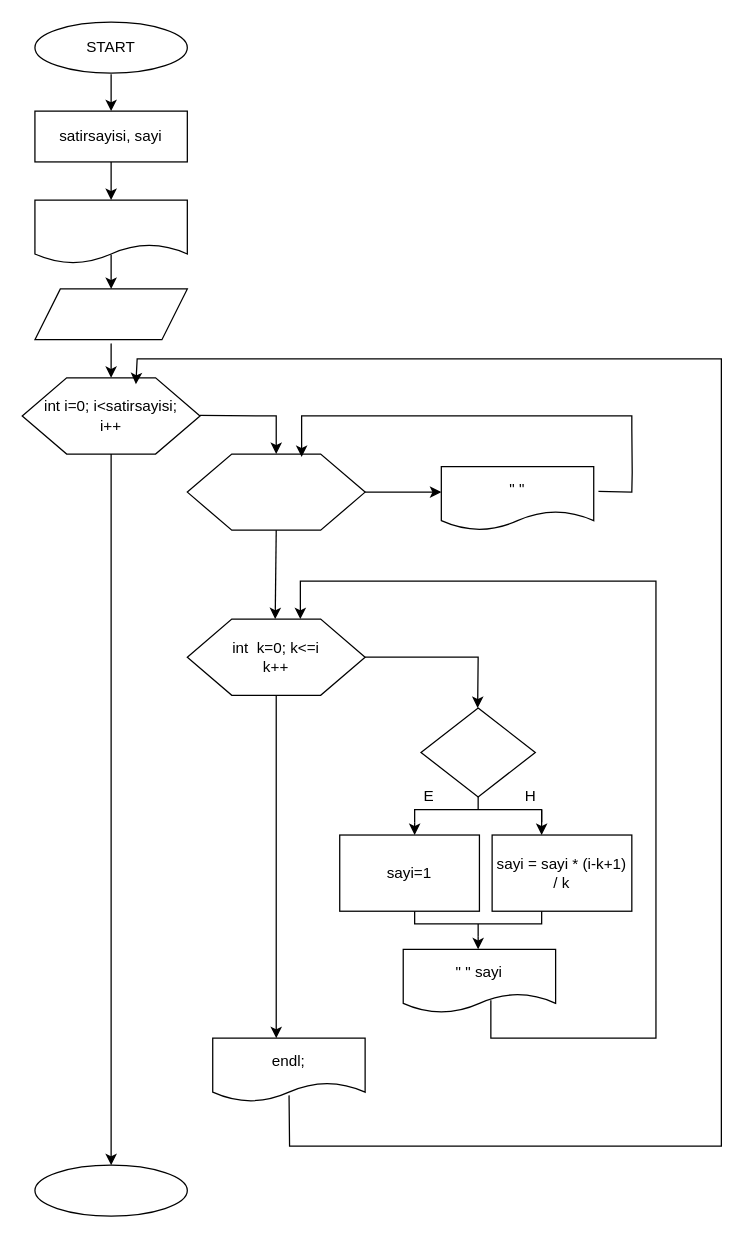
This 754x1238 diagram has some shape labels left out. Here are the shapes that lost their labels. From the top down, the box of each, then its label:
(34, 199, 187, 264): Satirsayisini giriniz.
(34, 288, 187, 340): satirsayisi
(186, 453, 365, 530): int j=1; j<satirsayisi-i j++
(420, 707, 535, 797): k==0 || i==0
(34, 1164, 187, 1216): BİTİR
